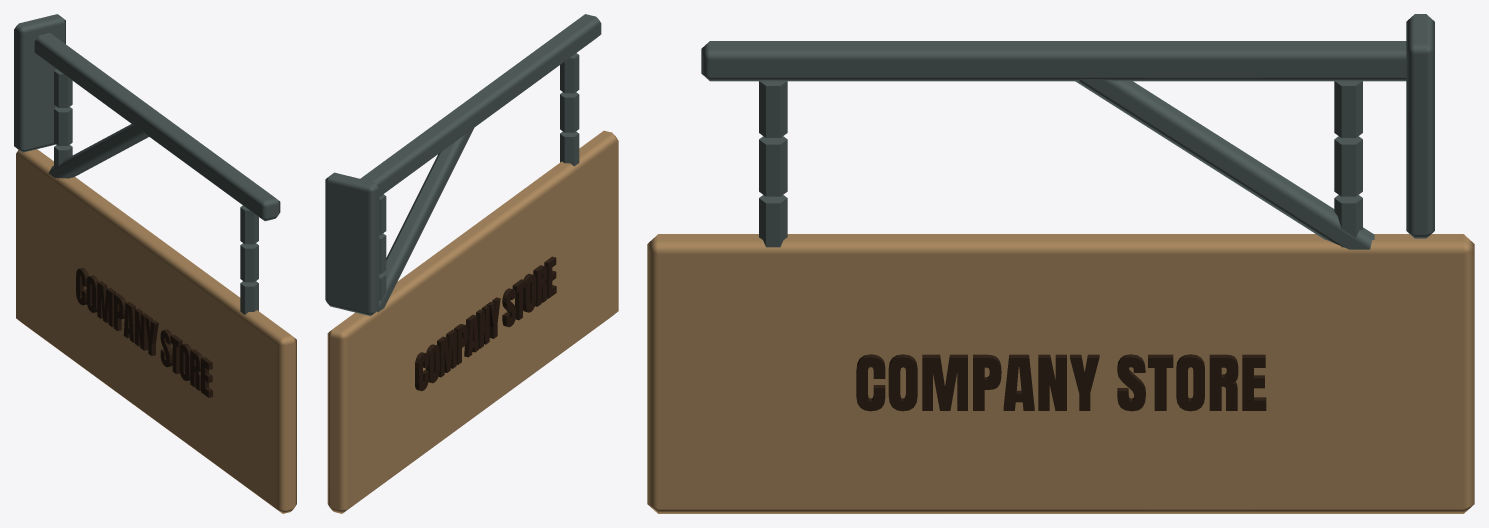
File: SignCompanyStore.glb
3 views of the same model, side by side, from view 1: azimuth 30°, elevation 25°; view 2: azimuth 150°, elevation 25°; view 3: azimuth 270°, elevation 25° (orthographic). The views are drawn at different scales.
Visible parts, largest first — view 1: SignWreckRoom.001; view 2: SignWreckRoom.001; view 3: SignWreckRoom.001.
Part boxes in pixels (x1,y1,x2,y2): SignWreckRoom.001: (14, 14, 296, 513); SignWreckRoom.001: (325, 14, 618, 513); SignWreckRoom.001: (647, 14, 1474, 513).
Size of the model in its own units: 0.12 by 0.74 by 1.15.
